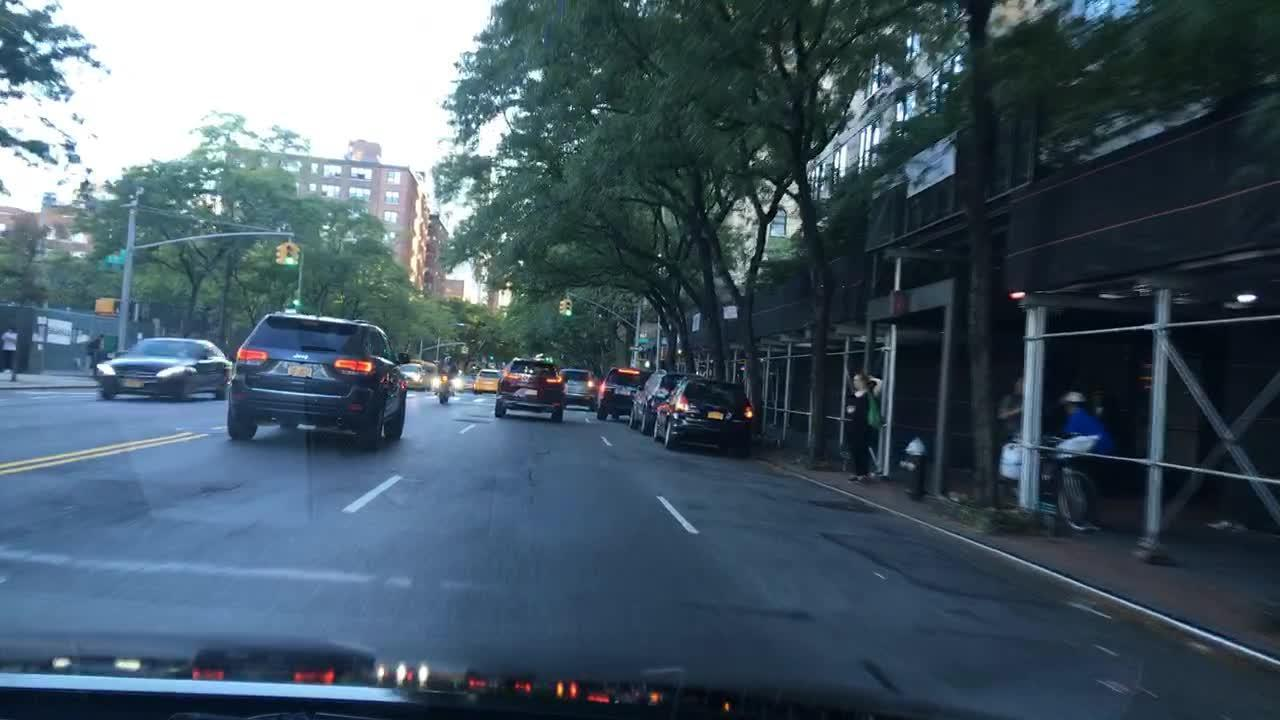jeep: (289, 347, 314, 368)
